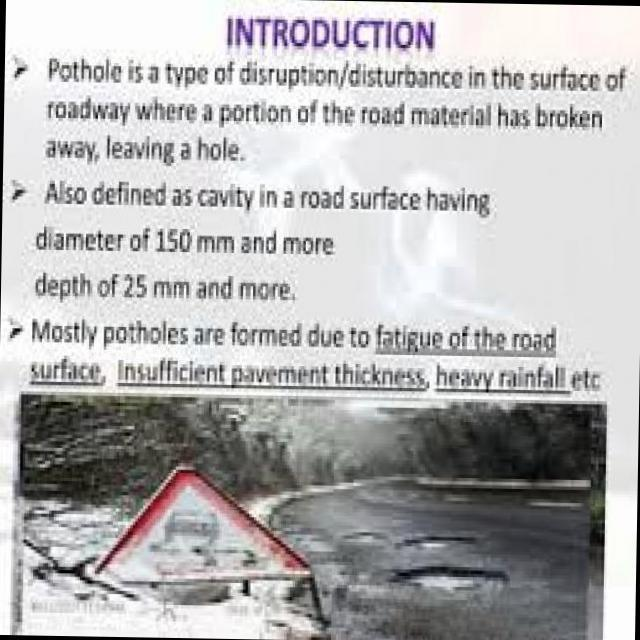Pothole: (383, 566, 505, 599)
